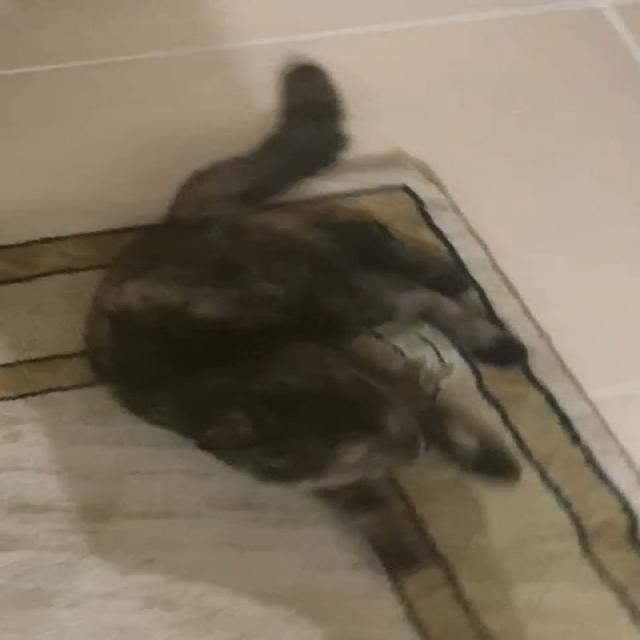authorized: (80, 54, 637, 637)
